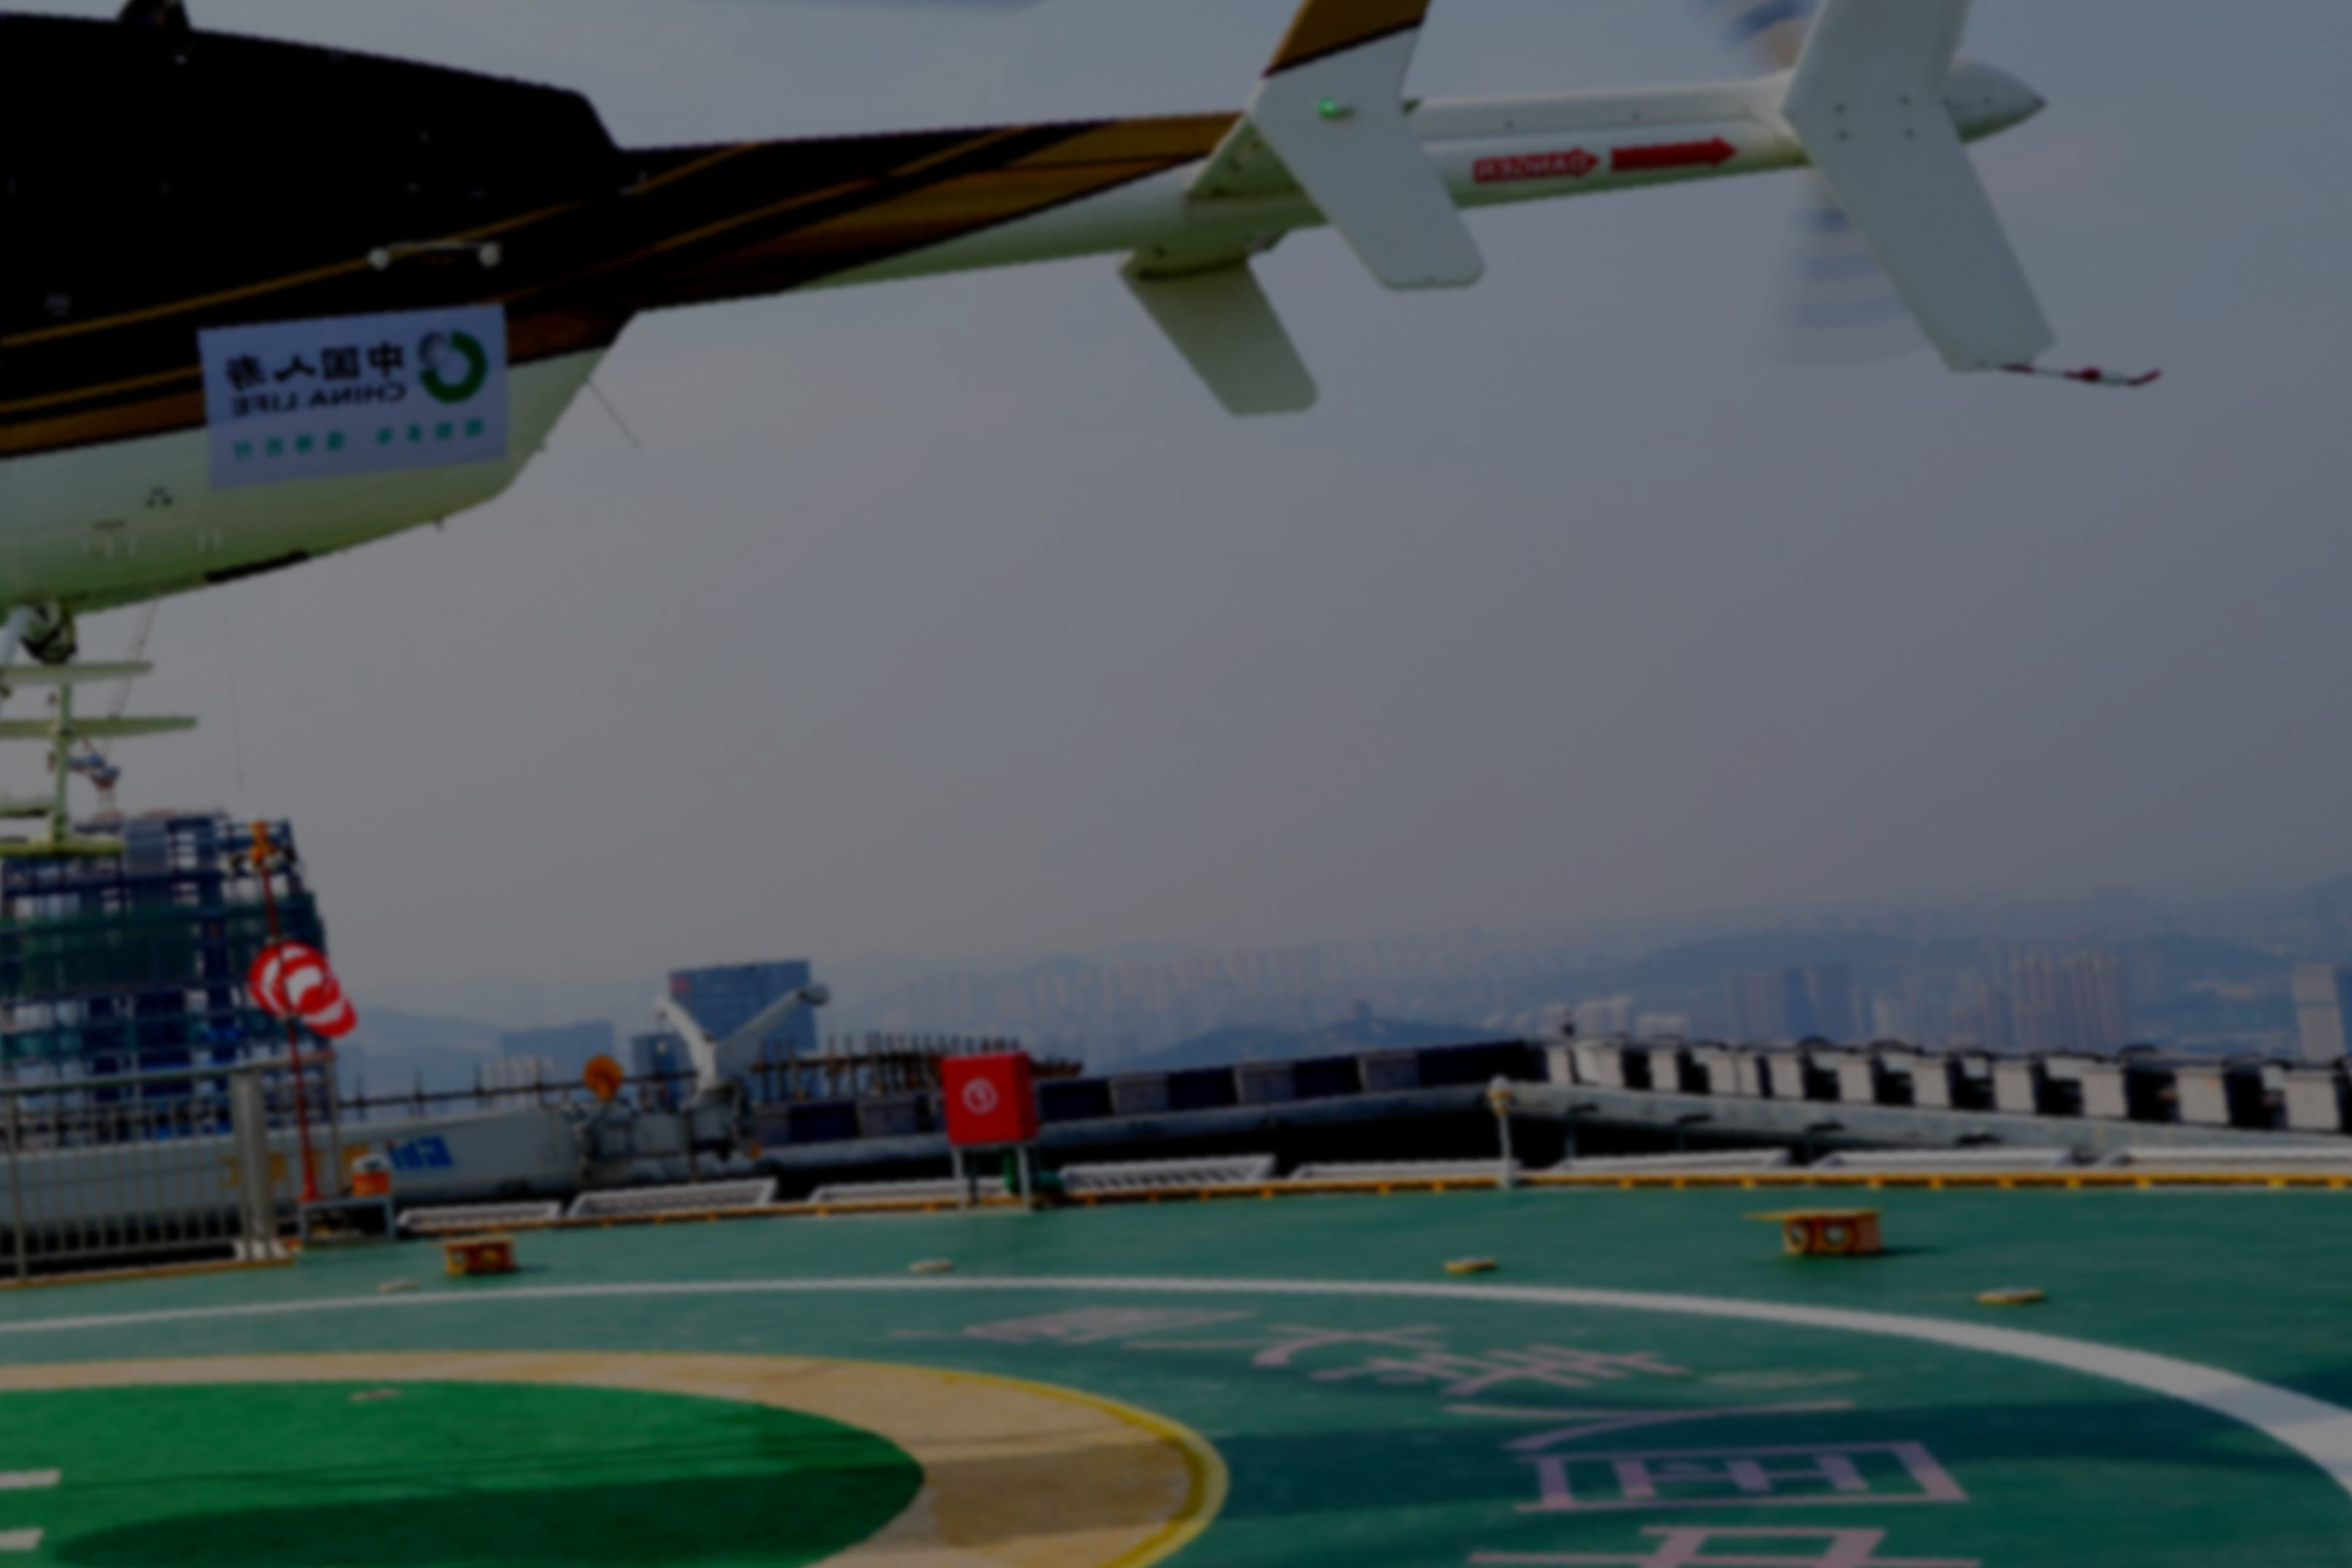Apron: (0, 1342, 1243, 1566)
